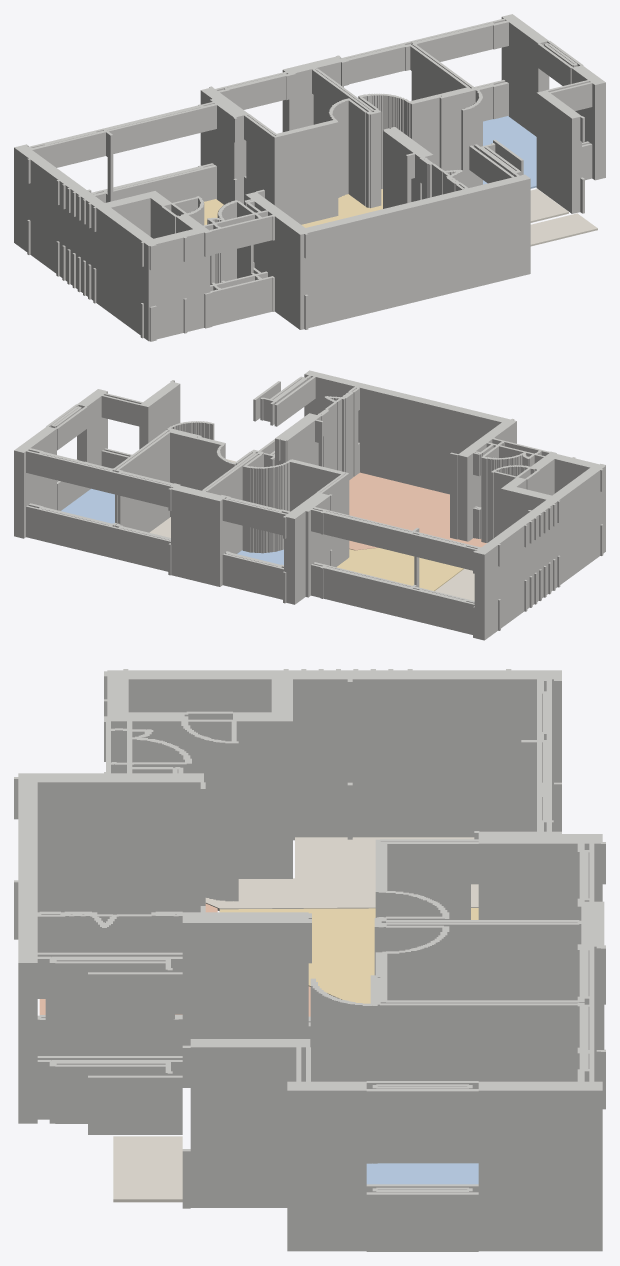
3 renders of one model, top to bottom at view 1: azimuth 30°, elevation 25°; view 2: azimuth 150°, elevation 25°; view 3: azimuth 270°, elevation 25°, orthographic. The views are drawn at different scales.
Visible parts, largest first — view 1: walls, room:bedroom:6, room:other:15, room:living:2, room:other:11; view 2: walls, room:kitchen:4, room:living:2, room:bedroom:6, room:other:1, room:bedroom:0; view 3: walls, room:other:1, room:living:2, room:other:15, room:bedroom:6.
Part boxes in pixels (bbox=[...]): walls: bbox=[14, 14, 605, 341]; room:bedroom:6: bbox=[483, 116, 536, 188]; room:other:15: bbox=[530, 213, 597, 246]; room:living:2: bbox=[204, 189, 382, 227]; room:other:11: bbox=[530, 189, 568, 222]; walls: bbox=[14, 370, 605, 640]; room:kitchen:4: bbox=[349, 472, 486, 550]; room:living:2: bbox=[337, 548, 463, 591]; room:bedroom:6: bbox=[61, 488, 114, 523]; room:other:1: bbox=[435, 568, 474, 600]; room:bedroom:0: bbox=[237, 549, 283, 564]; walls: bbox=[14, 669, 605, 1251]; room:other:1: bbox=[205, 837, 478, 910]; room:living:2: bbox=[219, 908, 478, 1003]; room:other:15: bbox=[113, 1136, 182, 1202]; room:bedroom:6: bbox=[366, 1163, 478, 1184].
Size of the model in its own units: 15.77 by 2.8 by 9.35.
